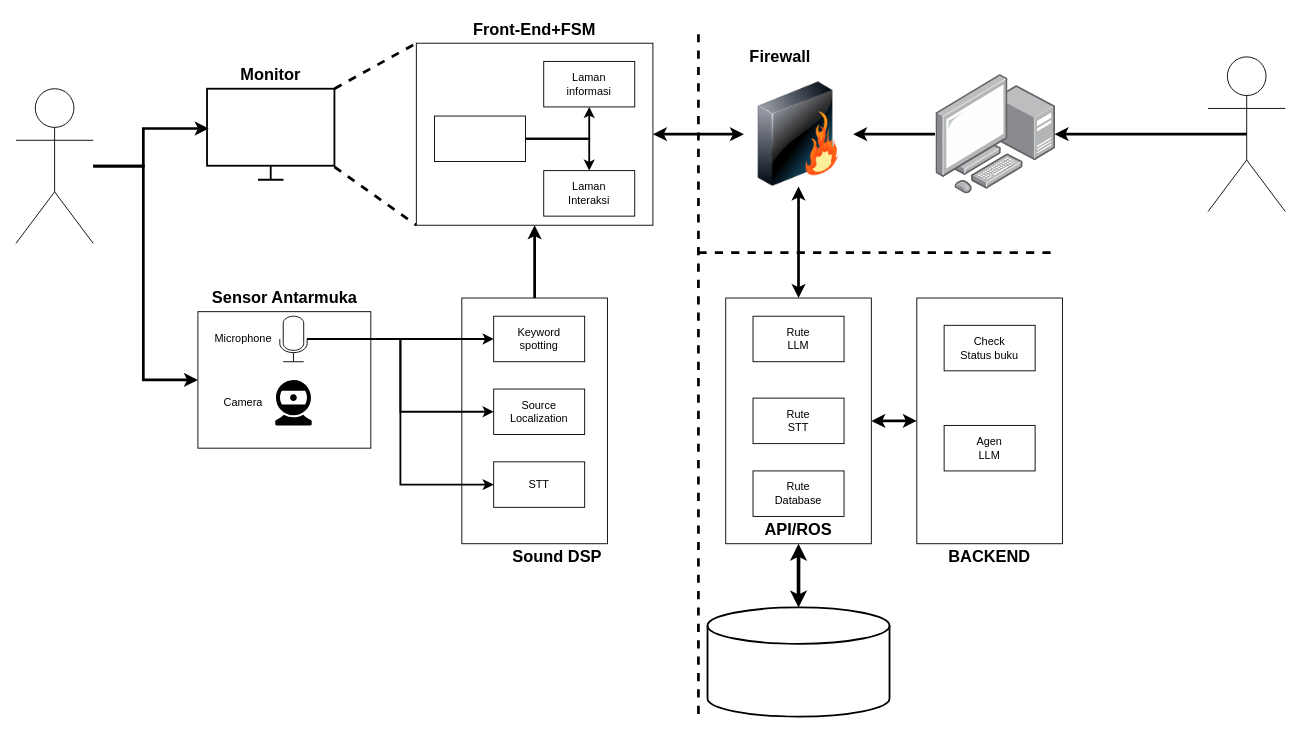
Some shapes in this 1304 by 734 pixel diagram are drawn without their labels. The shapes that lost their labels are listed below. From the top down, each one's box as (x1, y1, x2, y2) in pixels, then its label:
(434, 115, 526, 162): Laman Awal
(1207, 56, 1285, 212): User Pustakawan
(15, 88, 93, 243): User Anak-anak
(706, 606, 890, 717): Database Perpustakaan
